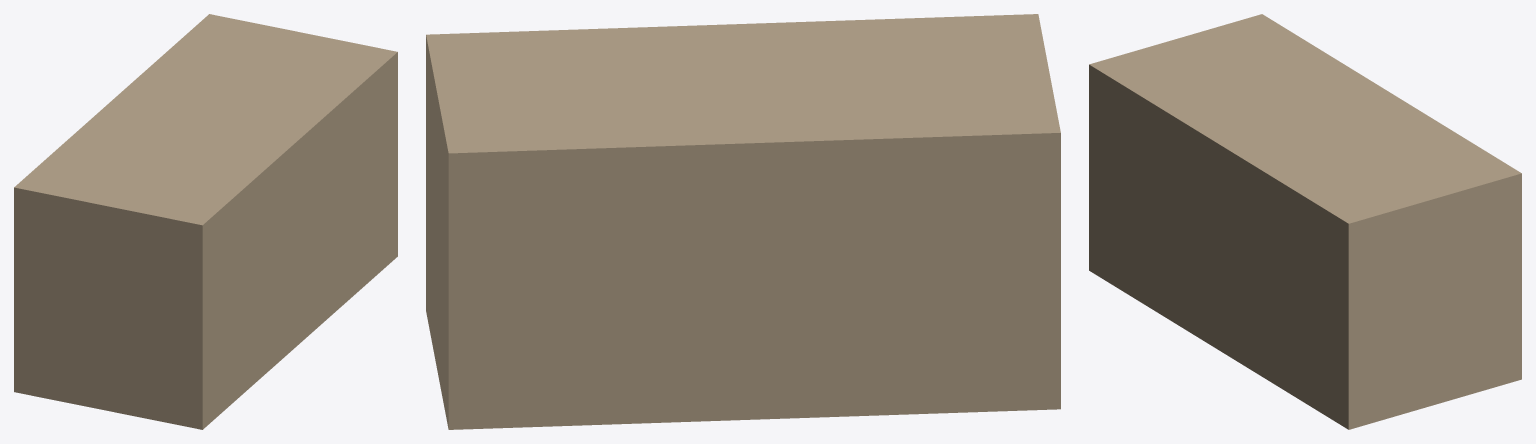
The model's file is bld_104408962.dae.
3 renders of one model, left to right at view 1: azimuth 30°, elevation 25°; view 2: azimuth 150°, elevation 25°; view 3: azimuth 270°, elevation 25°, orthographic. The views are drawn at different scales.
Parts seen in each view (by area): view 1: bld_104408962; view 2: bld_104408962; view 3: bld_104408962.
Boxes of the visible parts, x1,y1,x2,y2 form: bld_104408962: (14,14,397,429); bld_104408962: (426,14,1060,429); bld_104408962: (1089,14,1521,429).
Bounding box in the file's own units: 17.46 × 15.23 × 8.
